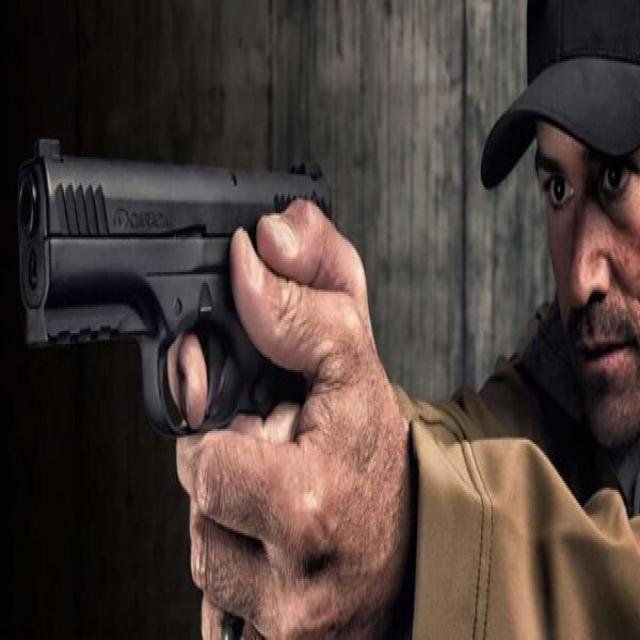Gun: (30, 132, 348, 454)
